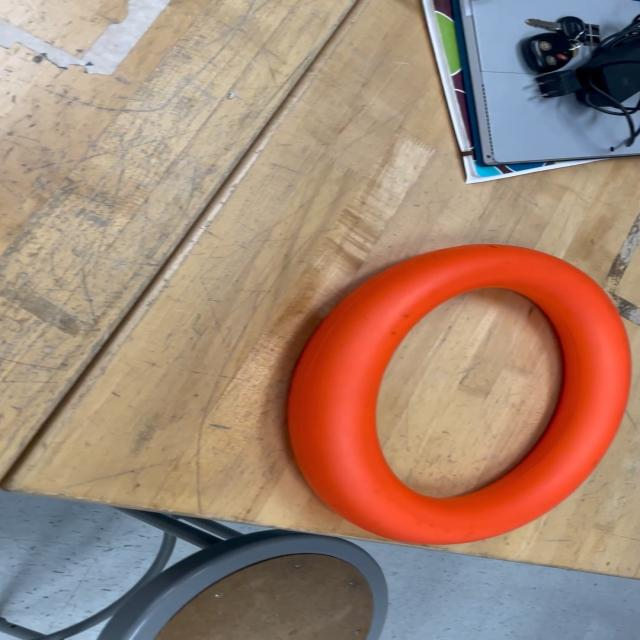note: (285, 242, 636, 547)
